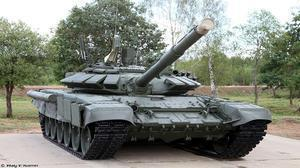t72: (31, 22, 270, 165)
